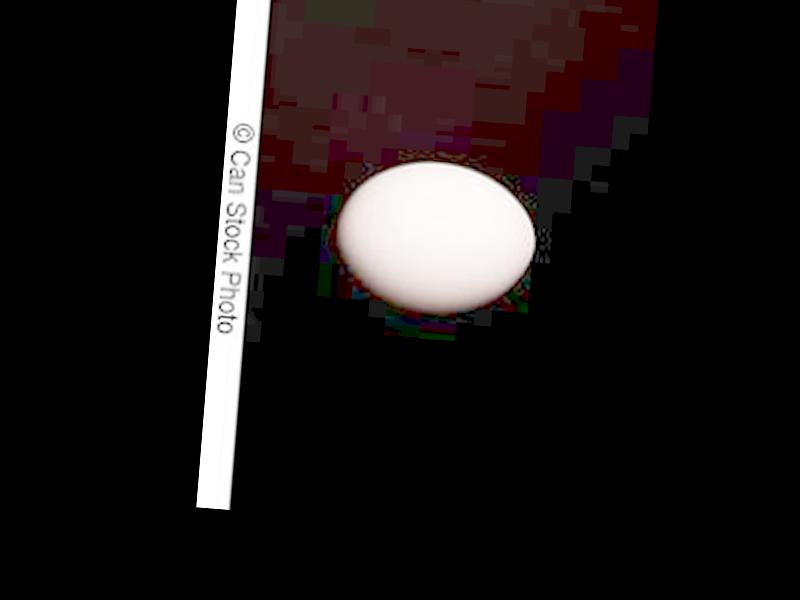Eggs: (329, 155, 540, 317)
